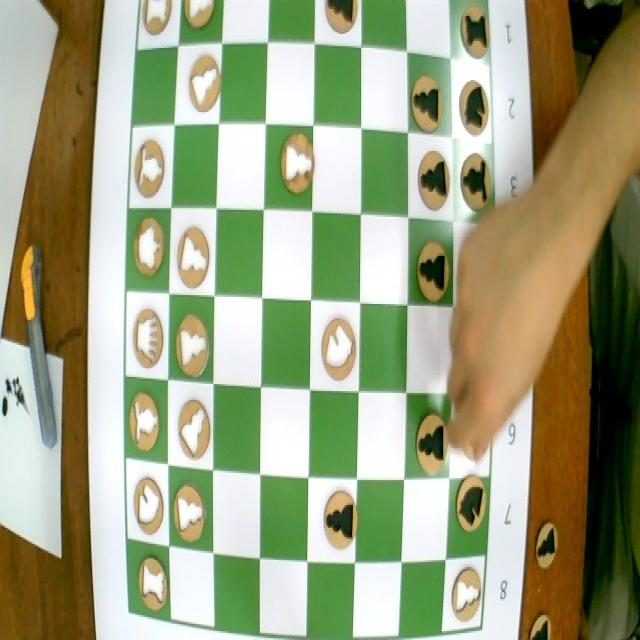chess-pieces: (314, 305, 358, 383), (405, 61, 449, 135), (172, 389, 212, 470), (124, 464, 166, 541), (169, 477, 212, 552), (318, 482, 358, 561), (274, 124, 314, 200), (124, 381, 162, 460), (127, 549, 170, 618), (126, 302, 167, 374), (175, 309, 213, 381), (415, 231, 452, 303), (412, 399, 448, 473), (132, 135, 170, 204), (172, 224, 210, 292), (413, 145, 449, 216), (127, 217, 165, 284), (457, 73, 492, 141), (447, 558, 483, 624), (186, 50, 222, 115), (454, 475, 489, 537), (458, 153, 493, 212), (457, 0, 491, 59), (135, 0, 177, 43), (180, 0, 220, 40), (320, 0, 358, 33)
